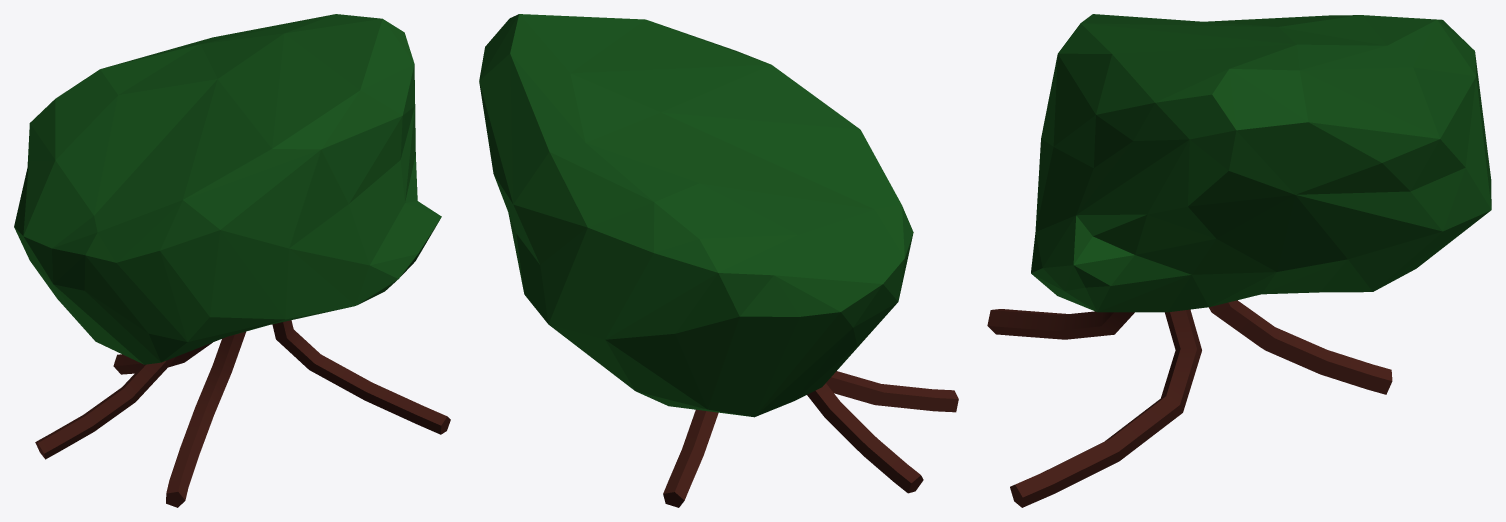
File: SM_bush_02.fbx
3 views of the same model, side by side, from view 1: azimuth 30°, elevation 25°; view 2: azimuth 150°, elevation 25°; view 3: azimuth 270°, elevation 25° (orthographic). The views are drawn at different scales.
Visible parts, largest first — view 1: bush_02; view 2: bush_02; view 3: bush_02.
Boxes of the visible parts, x1,y1,x2,y2 form: bush_02: [14, 14, 450, 507]; bush_02: [479, 14, 958, 507]; bush_02: [987, 14, 1491, 507].
Size of the model in its own units: 240 by 211 by 214.
